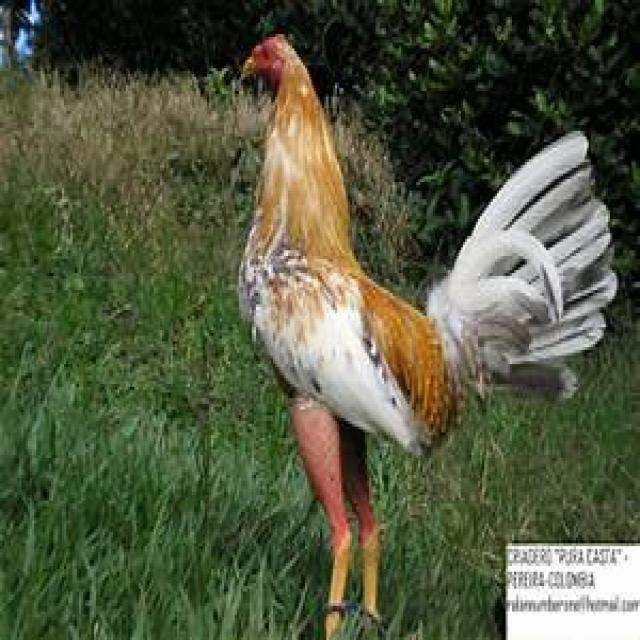hen: (237, 31, 621, 617)
